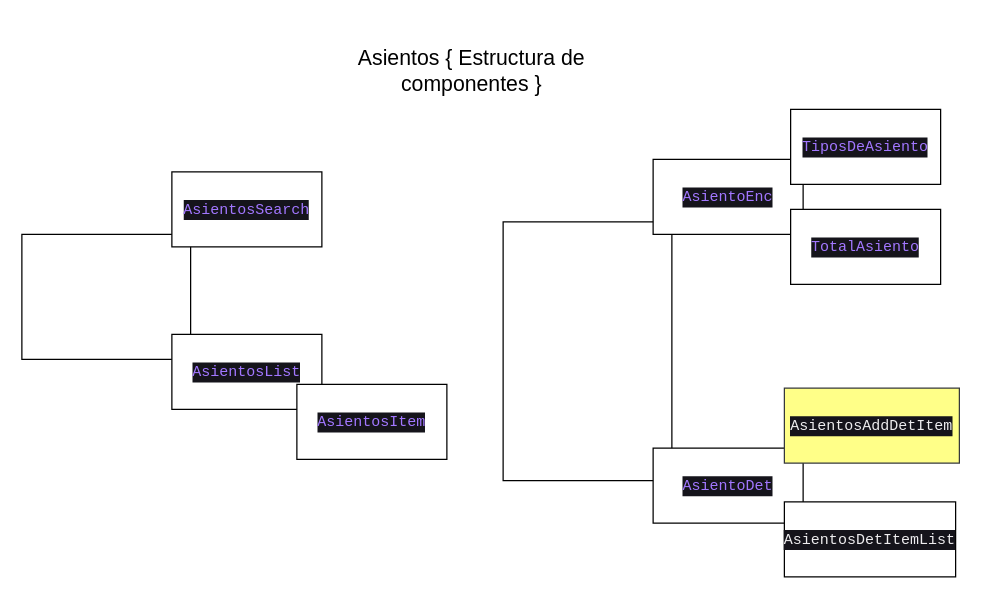
The diagram is 981 pixels wide and 599 high, and some of its shapes have lost their labels. The shapes that lost their labels are listed below. From the top down, each one's centre as x and y in pixels, then its label:
At (x=106, y=296): "Asientos View".
At (x=587, y=351): "Asientos".
